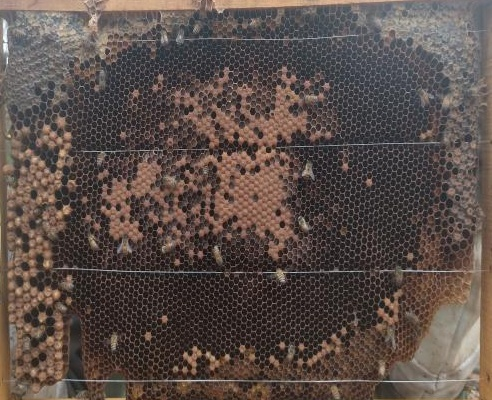cria: (6, 34, 437, 393)
